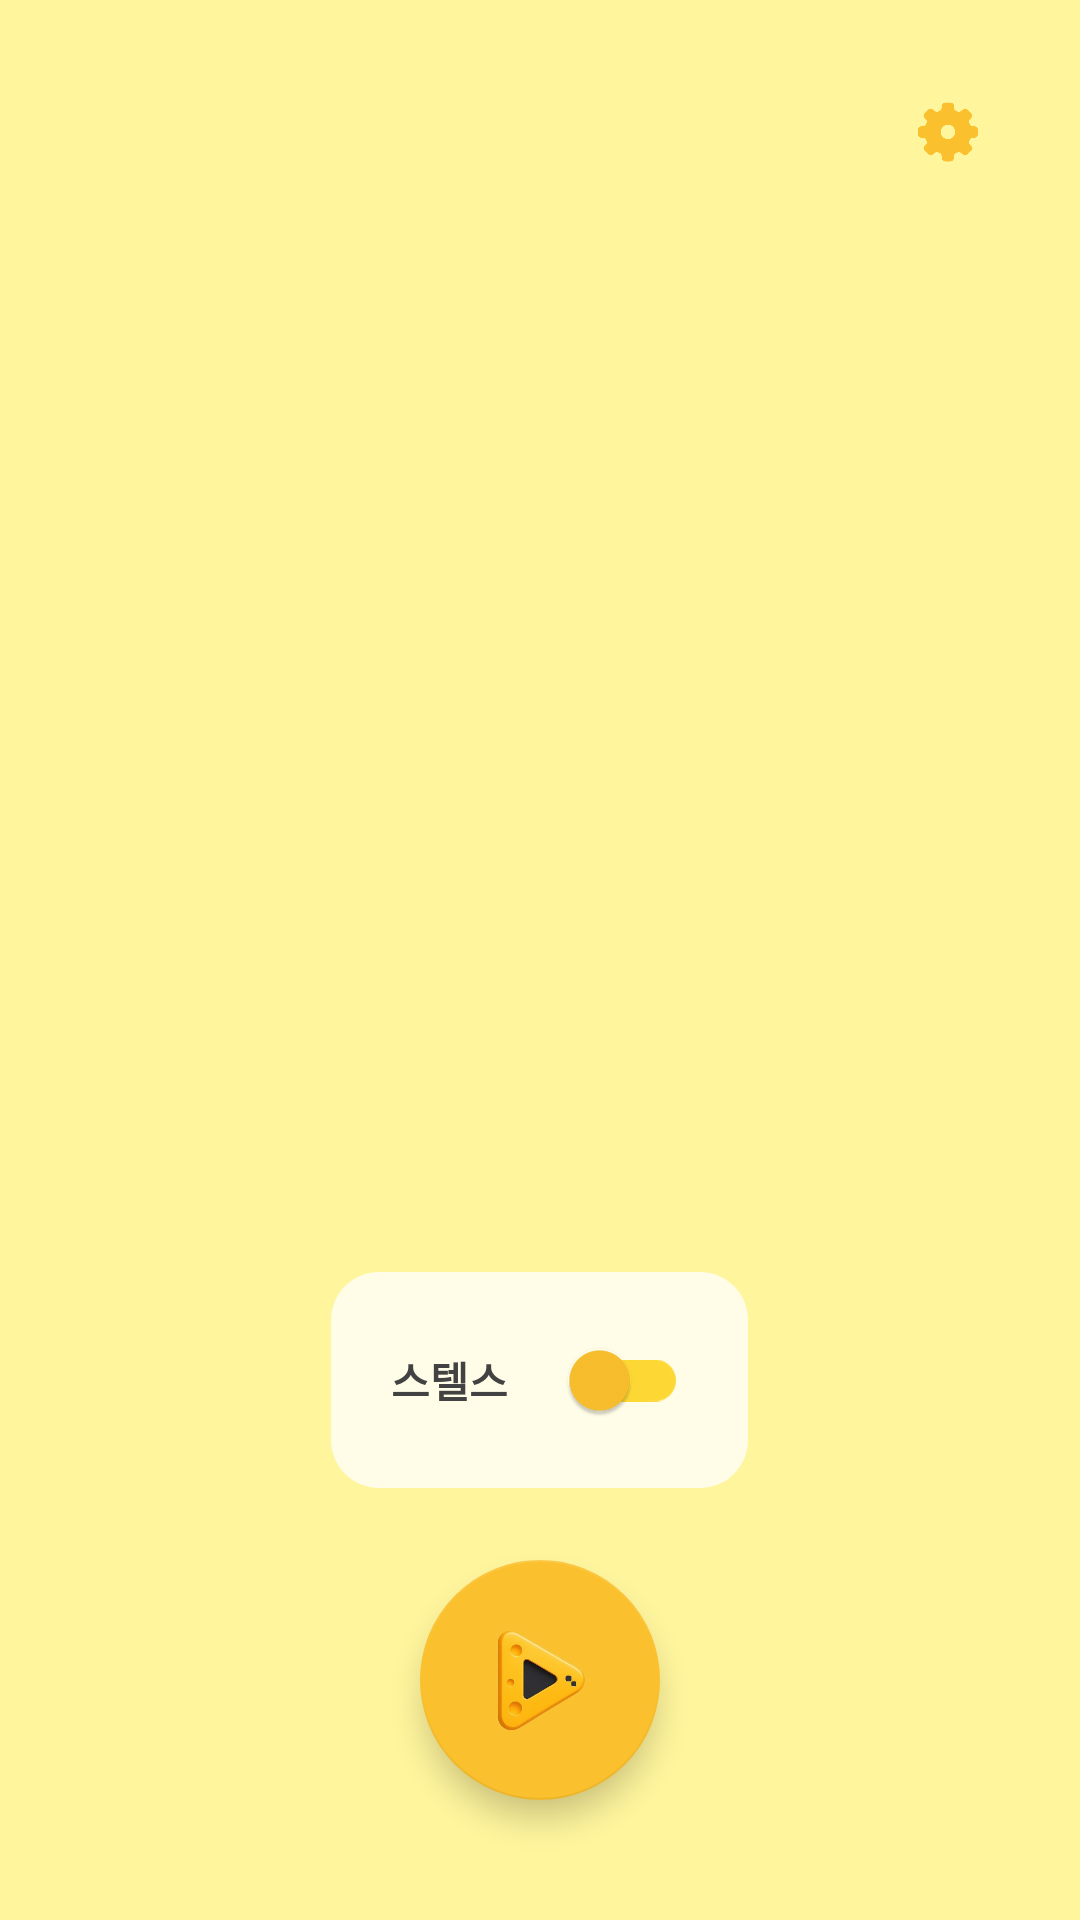

Named icons in this screenshot (1080x1920) and their centers, [x,y]:
설정: [948,132]
시작/멈춤: [540,1680]
